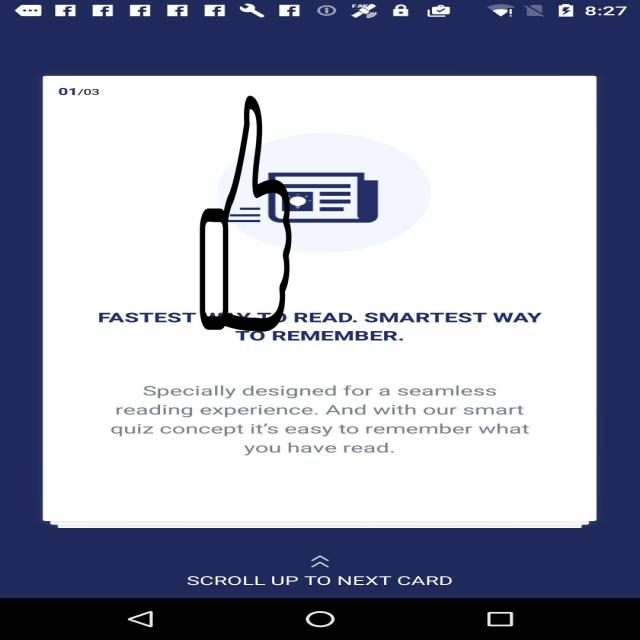privacy zuckering: (198, 96, 292, 332)
